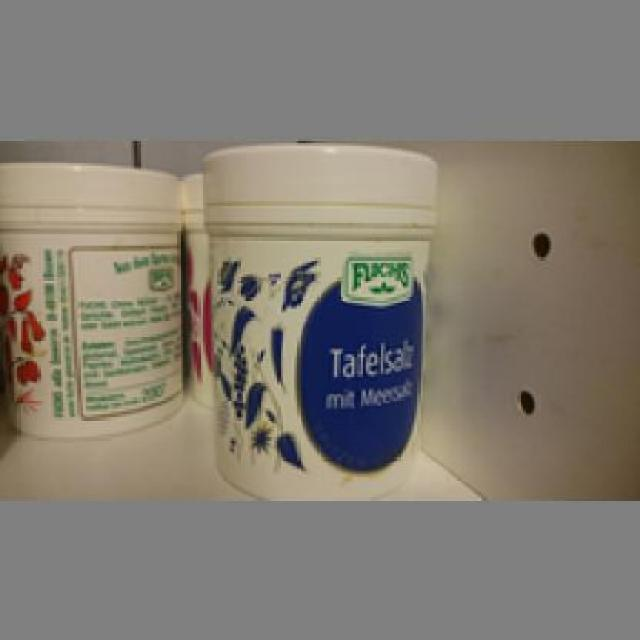Spices: (197, 140, 437, 494), (0, 157, 186, 437)
